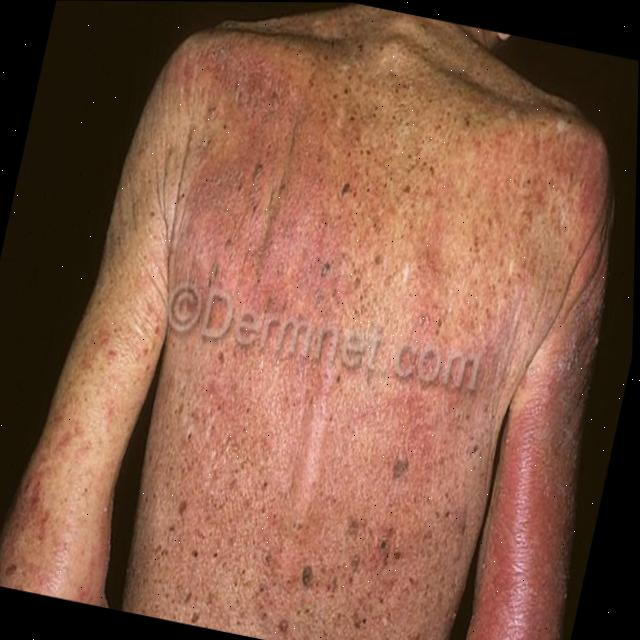Eczema: (90, 28, 551, 640)
